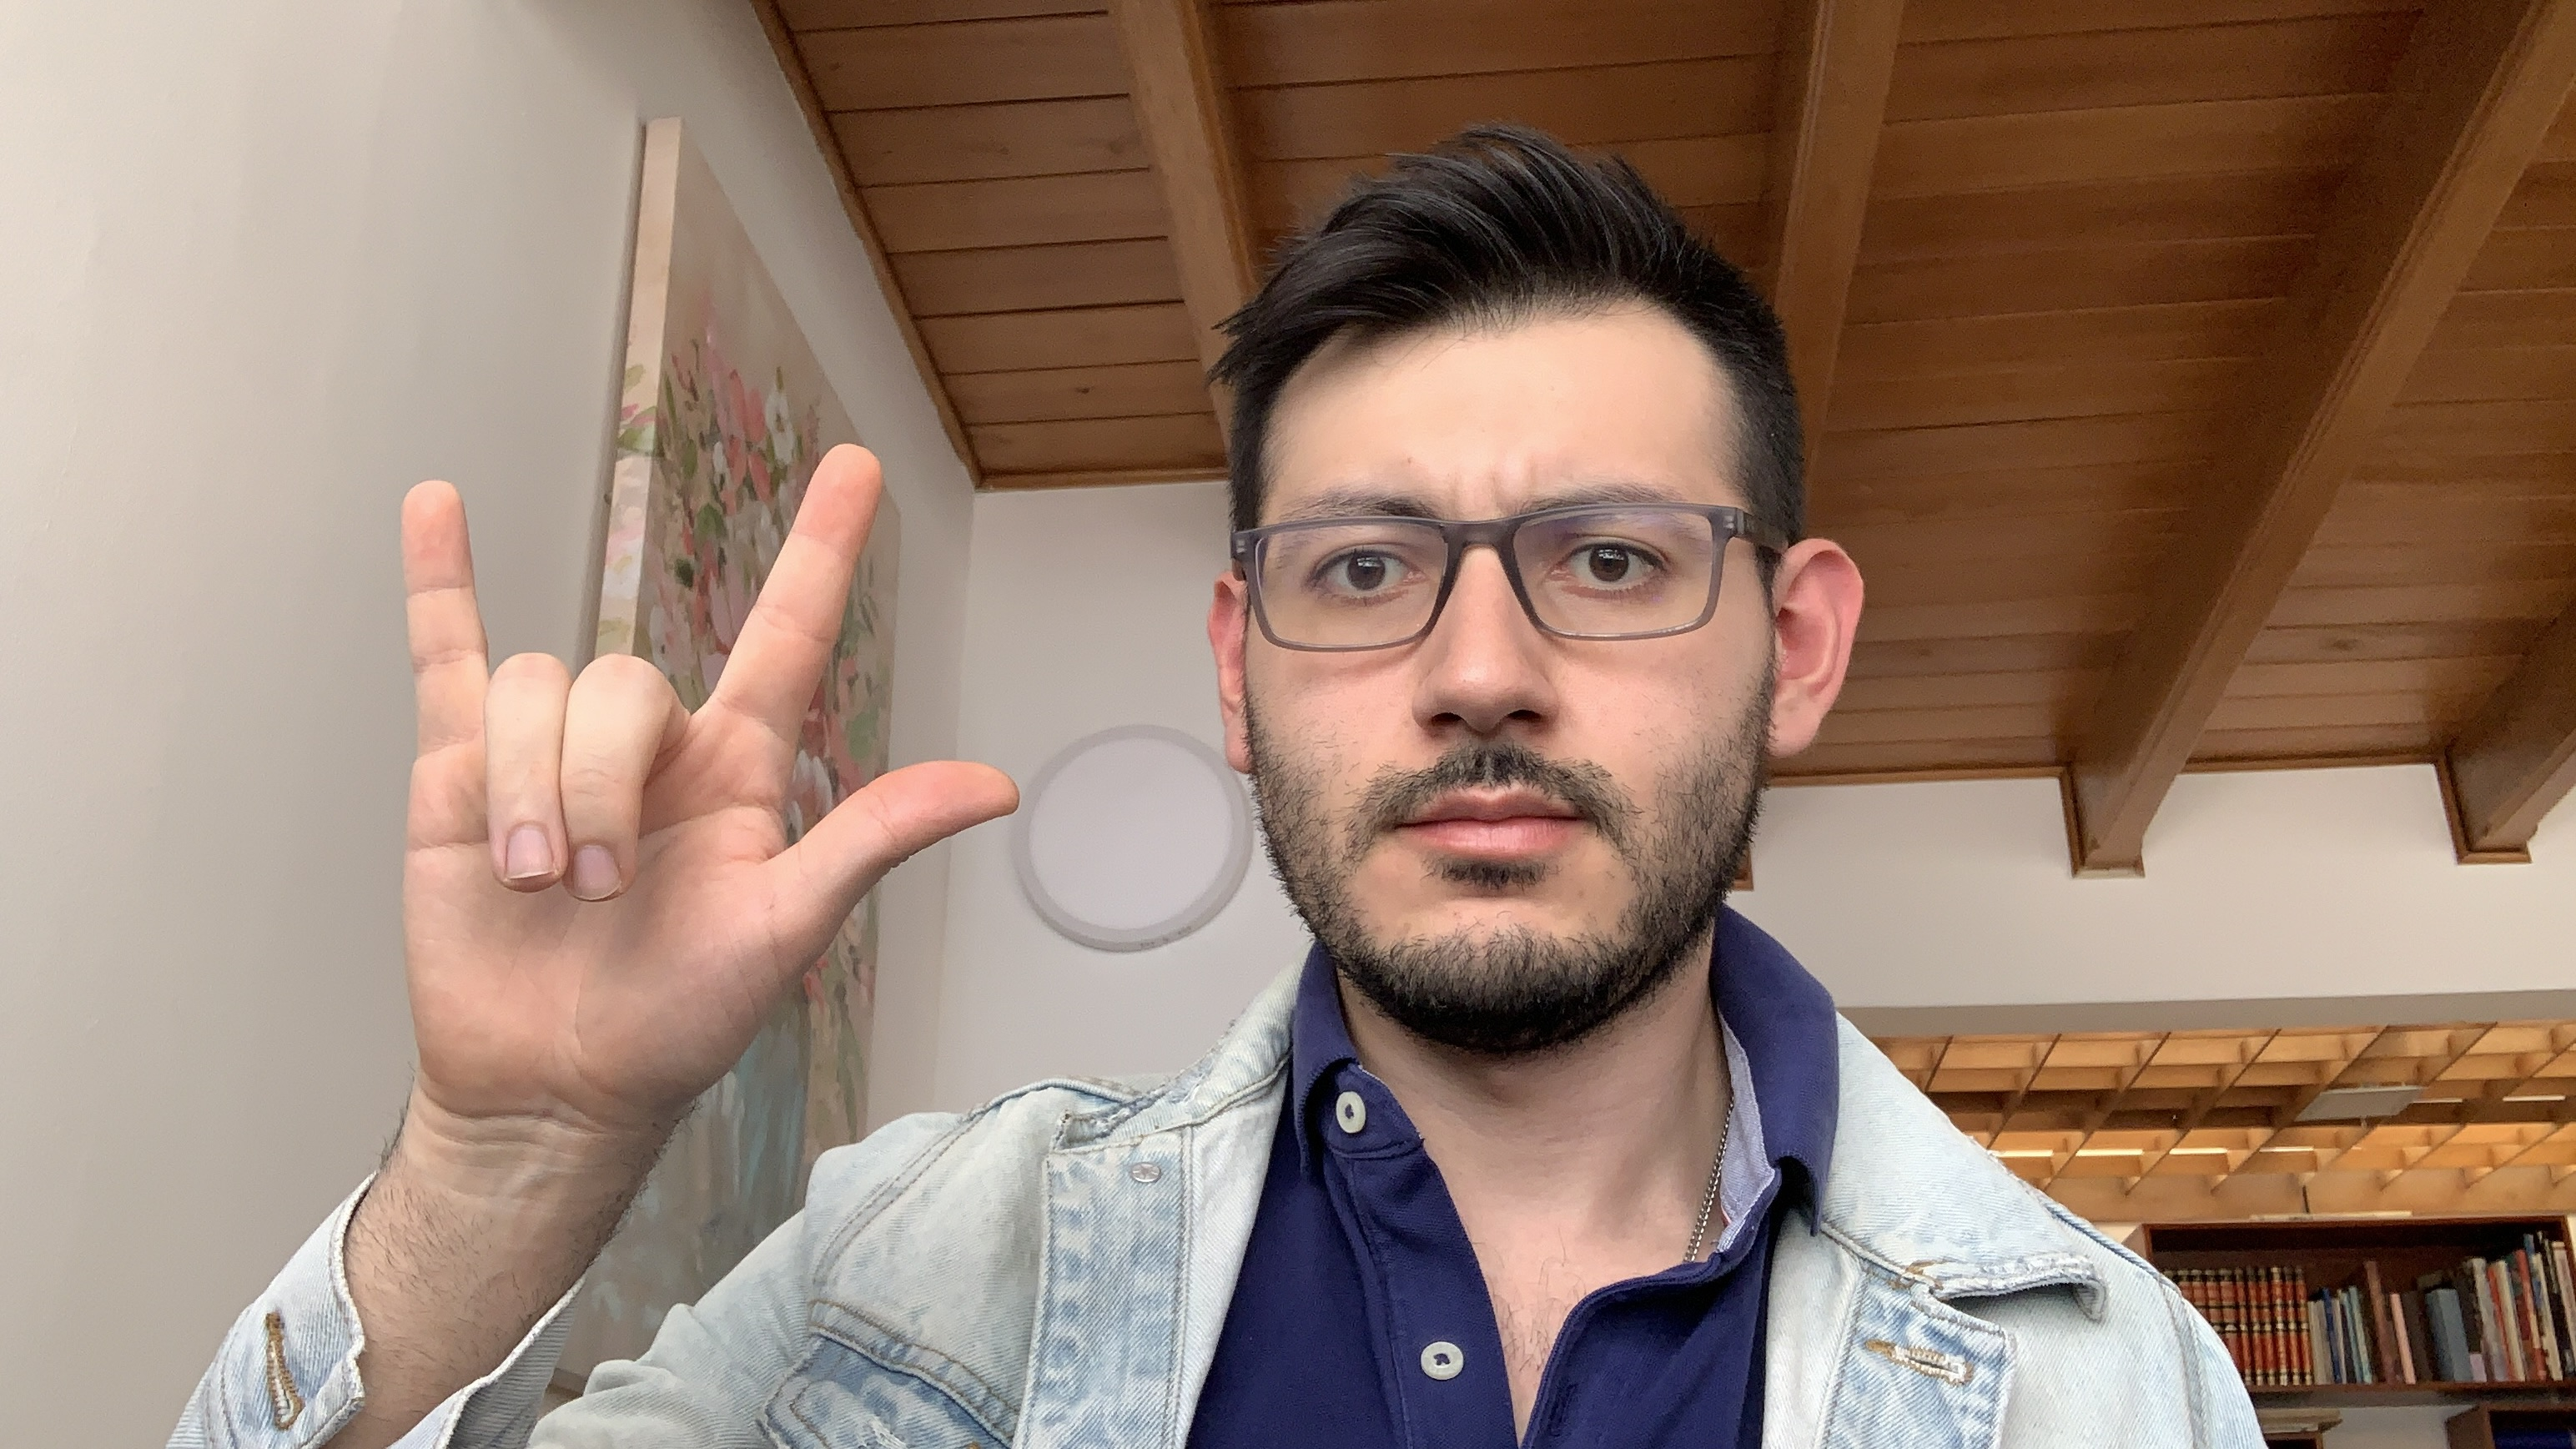I Love You: (372, 437, 1037, 1145)
